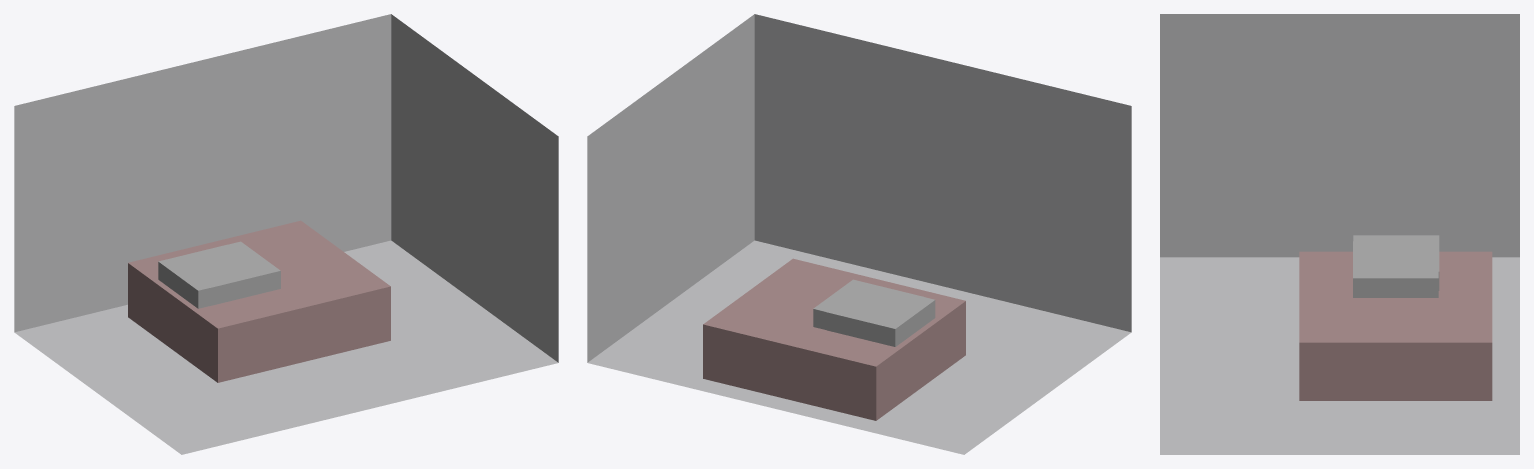
File: current_layout.glb
3 views of the same model, side by side, from view 1: azimuth 30°, elevation 25°; view 2: azimuth 150°, elevation 25°; view 3: azimuth 270°, elevation 25° (orthographic). The views are drawn at different scales.
Visible parts, largest first — view 1: room, bed, studyTable, tableLamp, bookShelf; view 2: room, bed, studyTable, tableLamp; view 3: room, bed, studyTable, tableLamp, bookShelf.
Part boxes in pixels (x1=…): room: x1=14, y1=14, x2=558, y2=454; bed: x1=128, y1=220, x2=390, y2=382; studyTable: x1=158, y1=244, x2=266, y2=308; tableLamp: x1=181, y1=241, x2=280, y2=305; bookShelf: x1=170, y1=242, x2=278, y2=305; room: x1=587, y1=14, x2=1131, y2=454; bed: x1=703, y1=258, x2=965, y2=420; studyTable: x1=826, y1=287, x2=935, y2=346; tableLamp: x1=813, y1=279, x2=920, y2=327; room: x1=1160, y1=14, x2=1519, y2=454; bed: x1=1299, y1=251, x2=1492, y2=400; studyTable: x1=1353, y1=235, x2=1439, y2=290; tableLamp: x1=1353, y1=242, x2=1438, y2=297; bookShelf: x1=1353, y1=241, x2=1438, y2=277.
Size of the model in its own units: 4.36 by 2.5 by 3.35.
